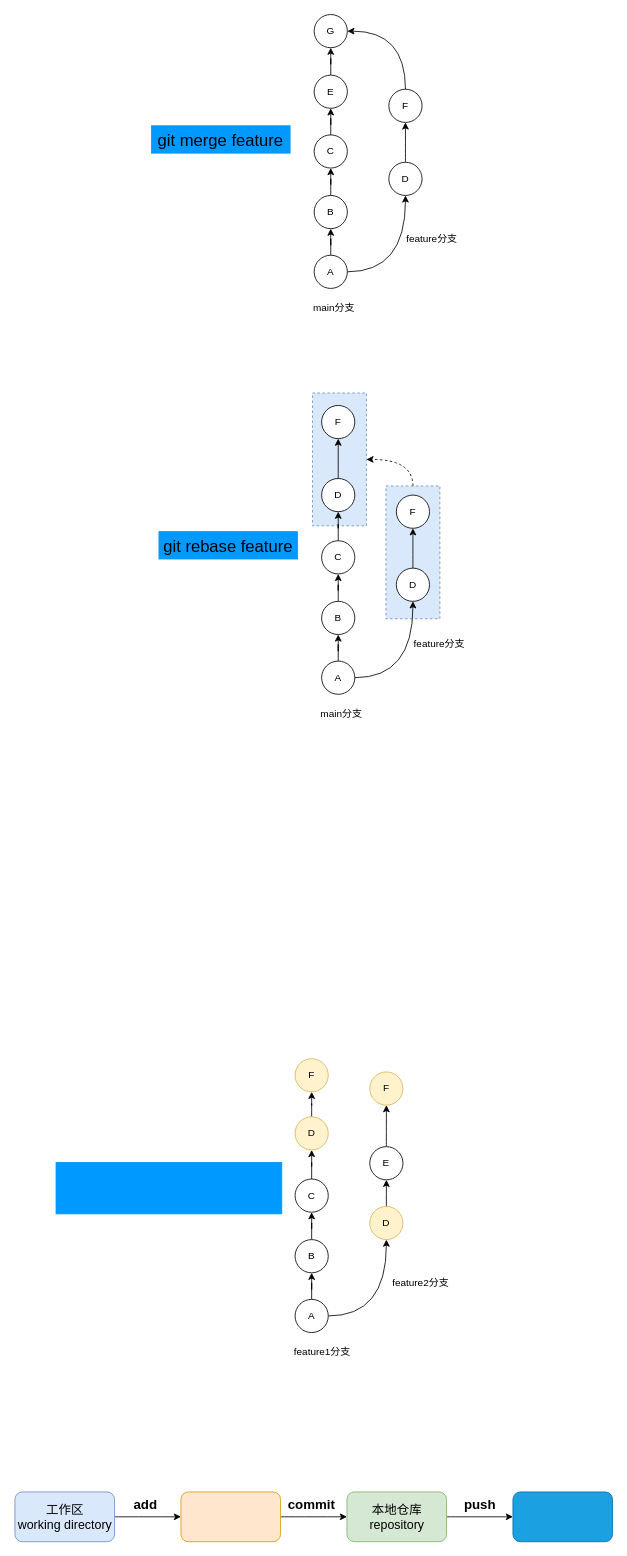
The diagram is 627 pixels wide and 1556 high, and some of its shapes have lost their labels. The centre of each missing label's shape, as x and y in pixels:
git cherry-pick 提交记录号1 [提交记录号...]: [168,1188]
暂存区 stage: [230,1516]
远程仓库 remote repository: [562,1516]
